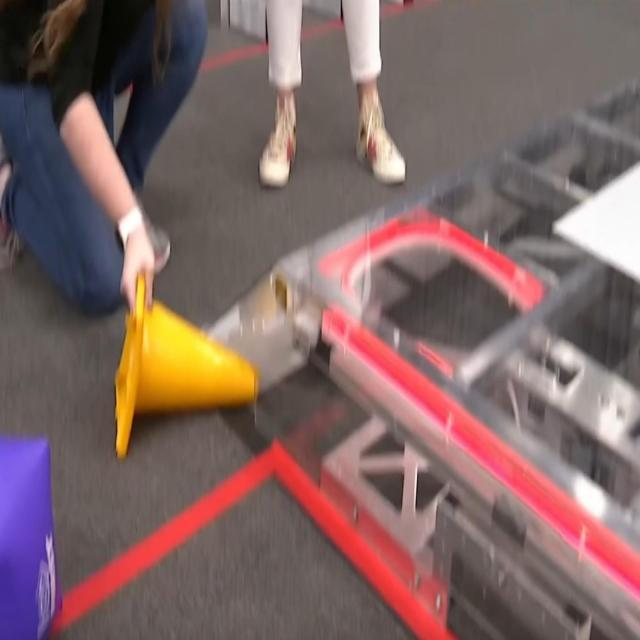frc_cone: (114, 269, 259, 459)
frc_cube: (0, 426, 60, 640)
